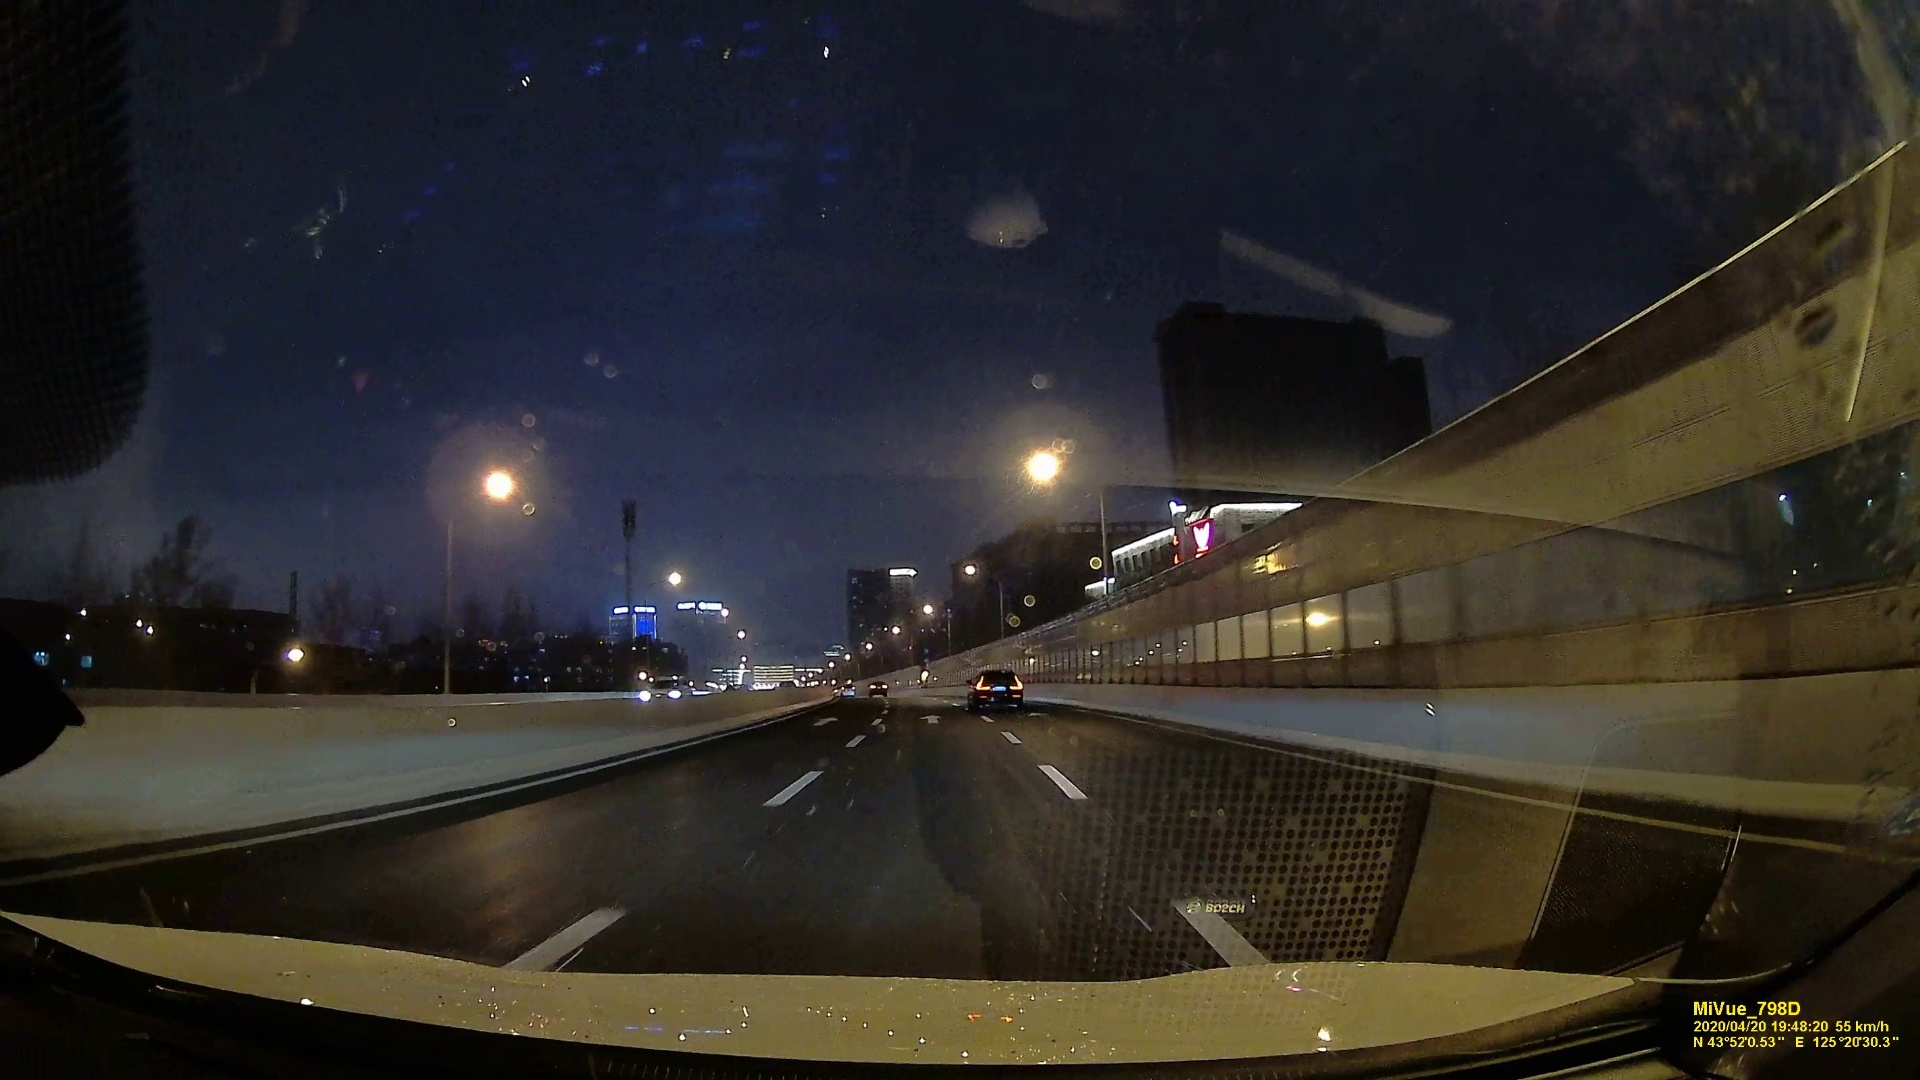minibus: (868, 680, 889, 698)
vehicle: (967, 667, 1025, 711), (638, 676, 691, 700)
